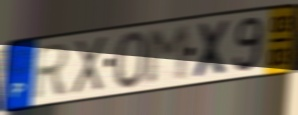9: (232, 14, 267, 75)
M: (145, 23, 191, 88)
O: (113, 29, 150, 92)
R: (32, 41, 72, 103)
X: (191, 18, 234, 81), (71, 34, 108, 98)
